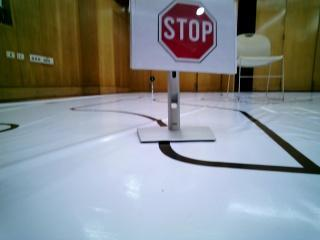stop: (133, 3, 224, 74)
